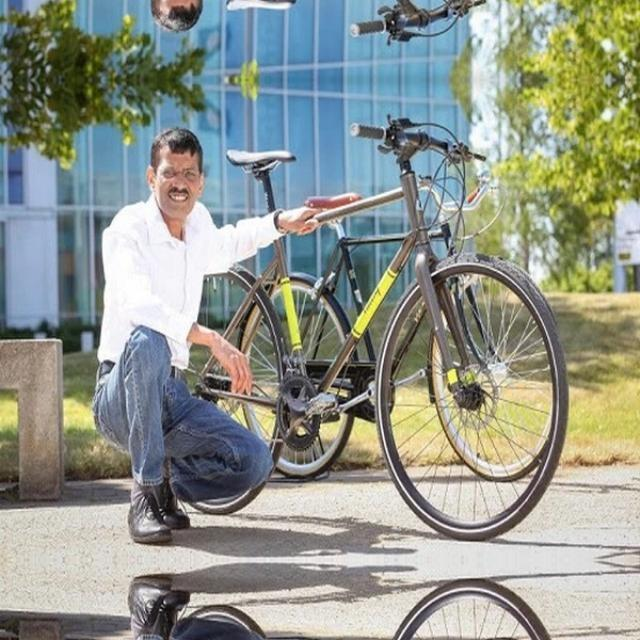obstacle: (232, 133, 578, 549), (231, 571, 578, 640), (231, 0, 578, 27)
person: (76, 106, 264, 552), (76, 568, 263, 640), (76, 0, 263, 54)
